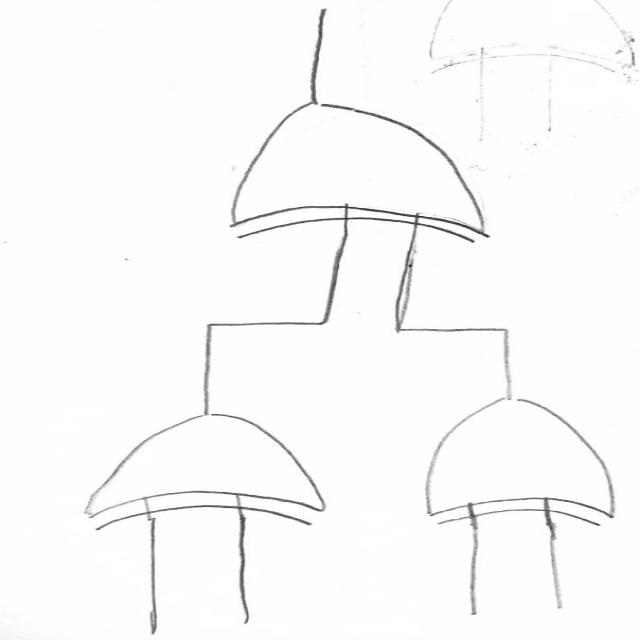XOR: (207, 83, 525, 257), (77, 406, 344, 540), (400, 397, 640, 541)
